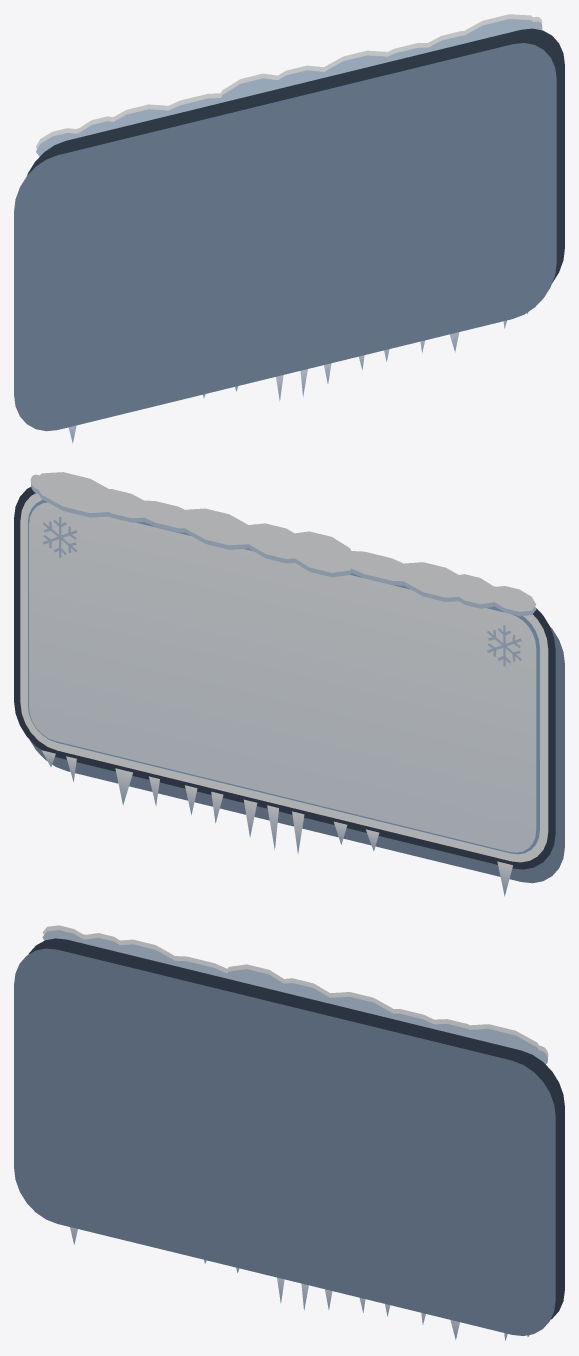
Rendered from ui_fact_card.glb.
The picture shows the model from 3 angles, top to bottom: view 1: azimuth 30°, elevation 25°; view 2: azimuth 150°, elevation 25°; view 3: azimuth 330°, elevation 25°; orthographic projection.
Visible parts, largest first — view 1: ui_fact_card; view 2: ui_fact_card; view 3: ui_fact_card.
Part boxes in pixels (x1=…): ui_fact_card: x1=14, y1=14, x2=564, y2=443; ui_fact_card: x1=14, y1=472, x2=564, y2=896; ui_fact_card: x1=14, y1=925, x2=564, y2=1340.
Size of the model in its own units: 0.63 by 0.3614 by 0.007.
